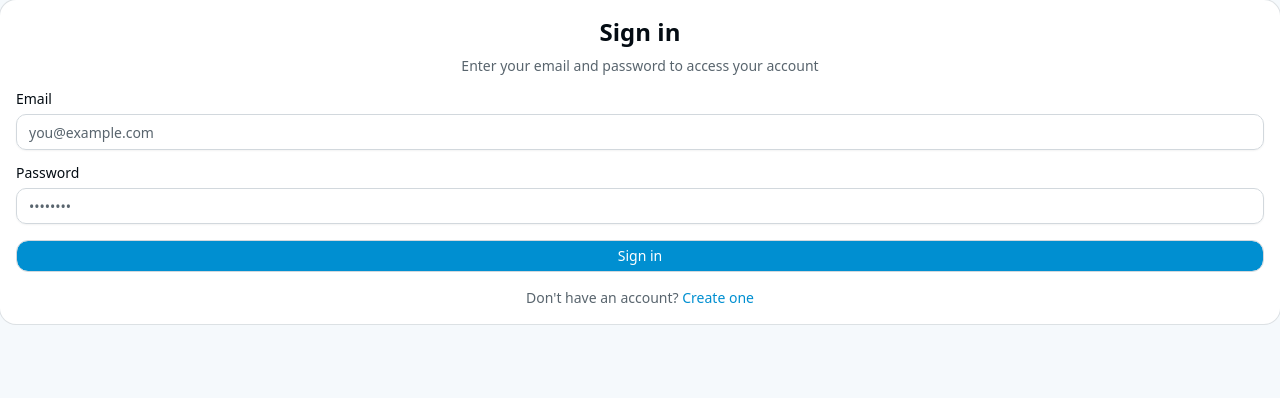
LoginForm › shows inline error on invalid credentials
This screenshot has width=1280, height=398.
Type "test@example.com" into the field labelled "Email" at (640, 132), box [16, 114, 1264, 150]
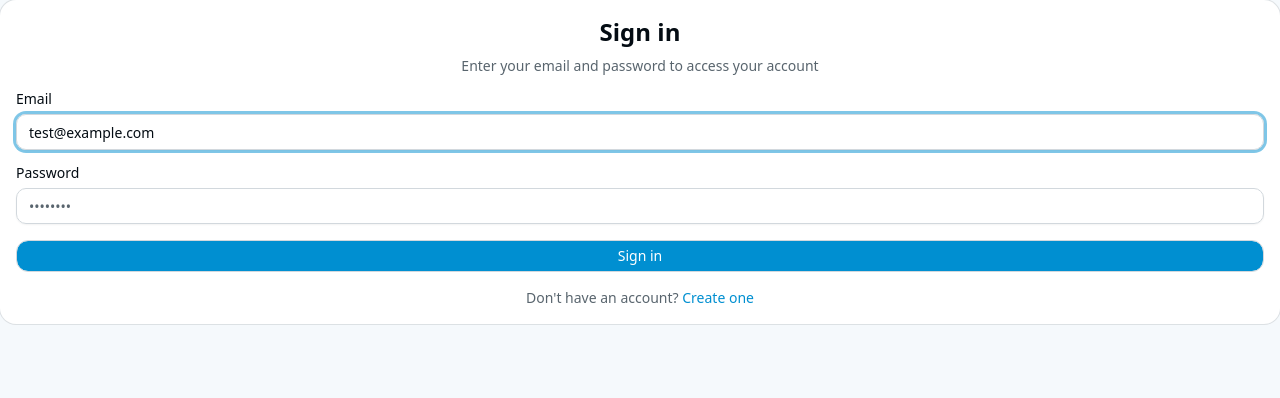
Type "wrongpassword" into the password field labelled "Password" at (640, 206), box [16, 188, 1264, 224]
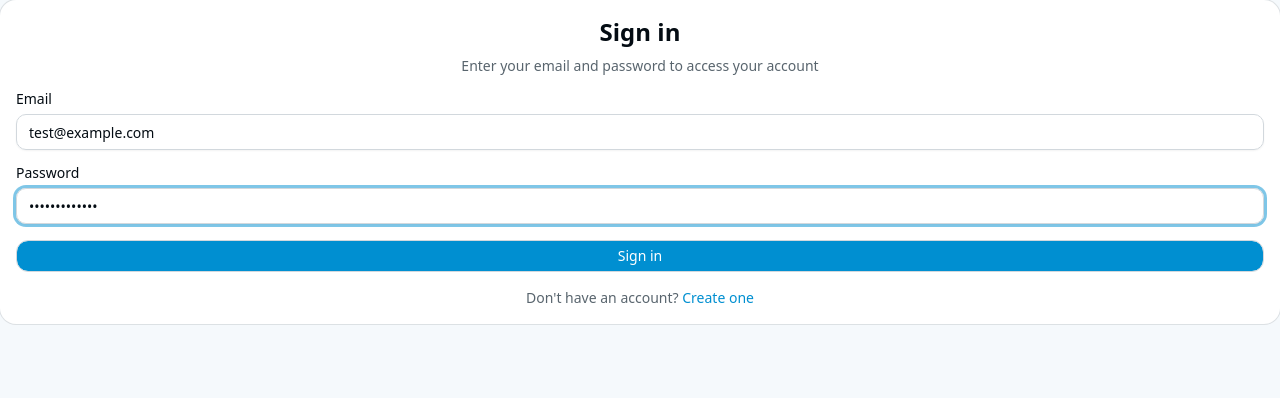
Click the button "Sign in" at (640, 256), box [16, 240, 1264, 272]
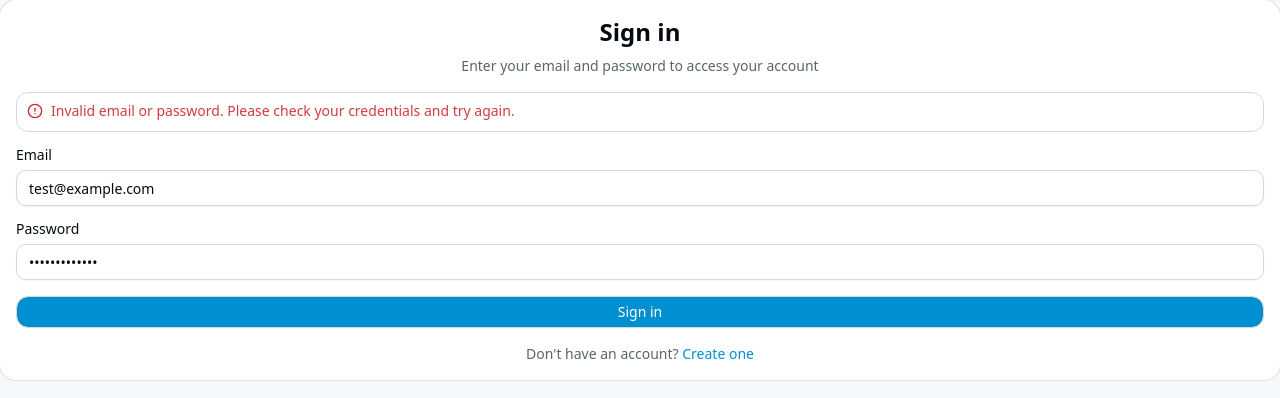
Expected: the text "Invalid email or password" is shown, [51, 101, 515, 120]
